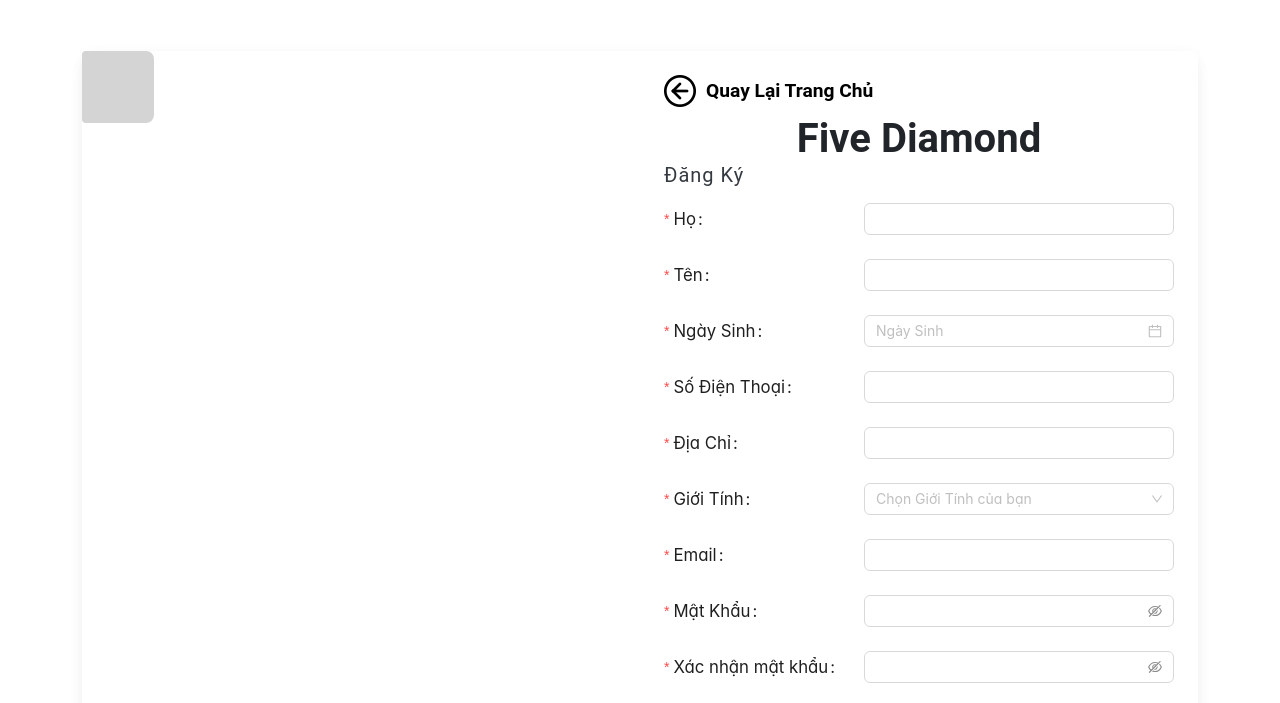
Test: RegisterPageCard › should display error message for invalid email format
The image size is (1280, 703).
// enter email
In the field labelled "Email": [1019, 555] box [864, 539, 1174, 571], type "invalid-email"
(page scrolled)
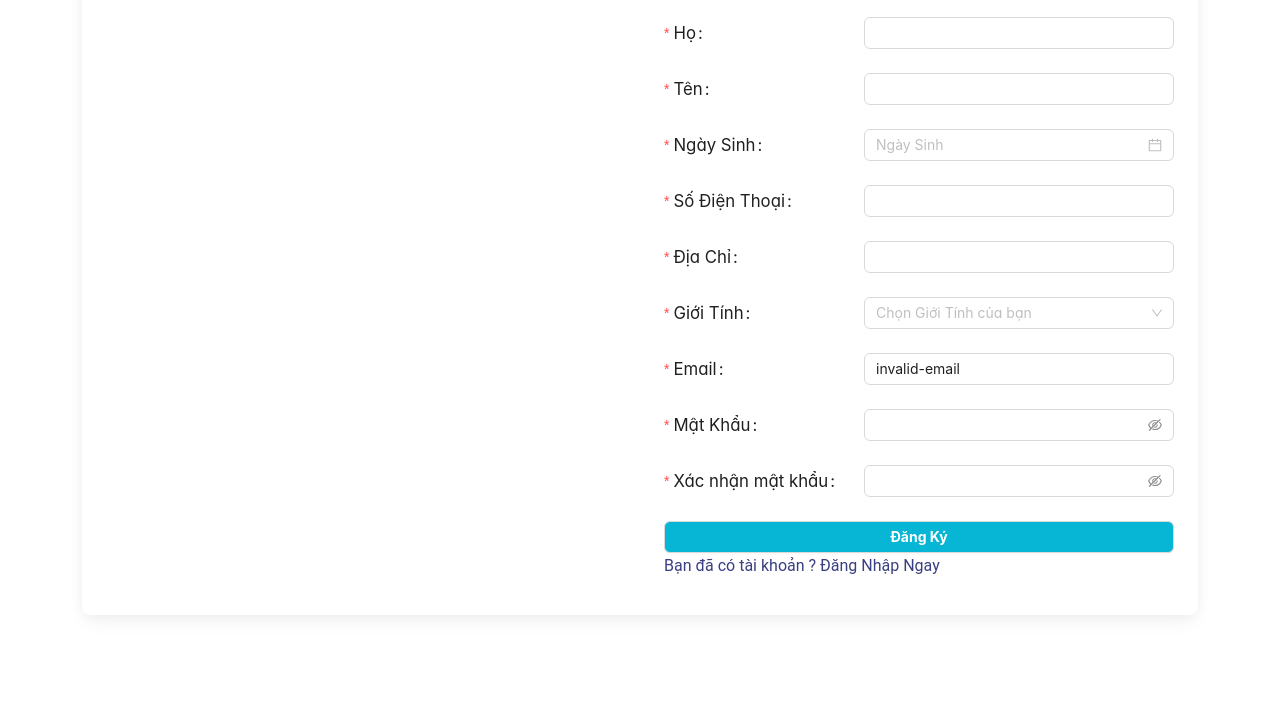
// submit button
Click the button "Đăng Ký": [919, 537] box [664, 521, 1174, 553]
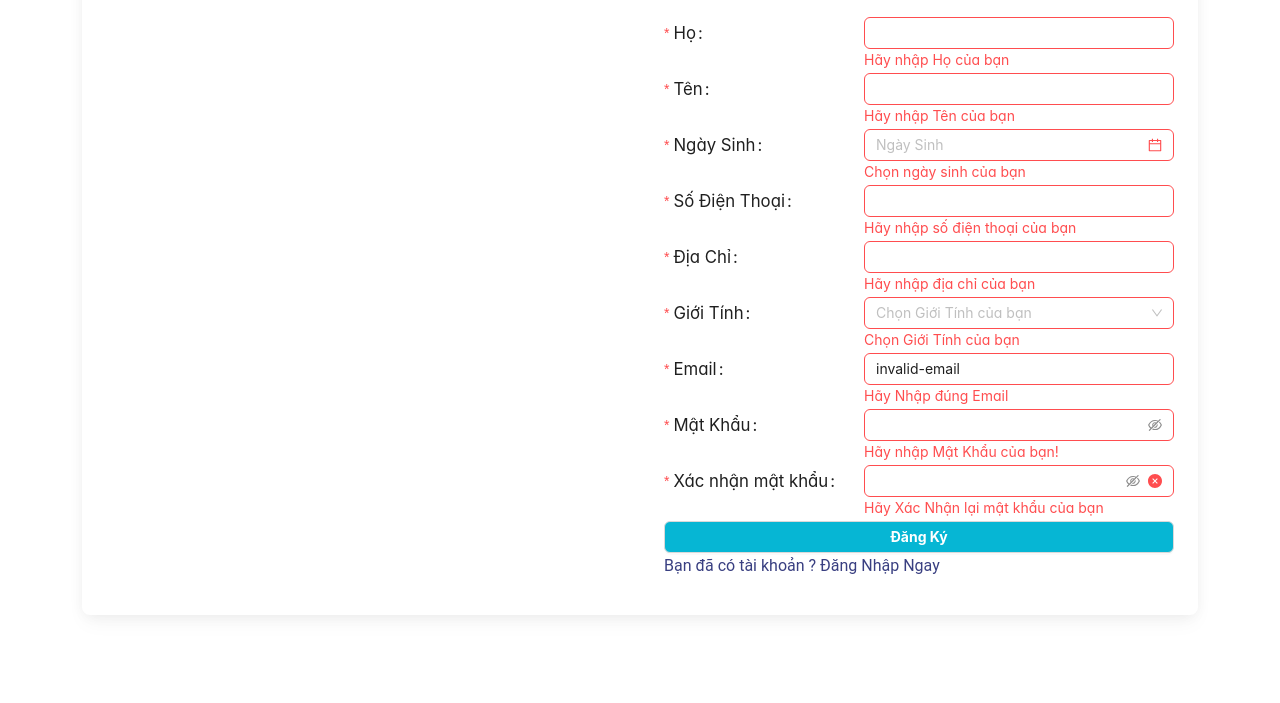
Expected: the text "Hãy Nhập đúng Email" is shown, [864, 387, 1008, 404]
